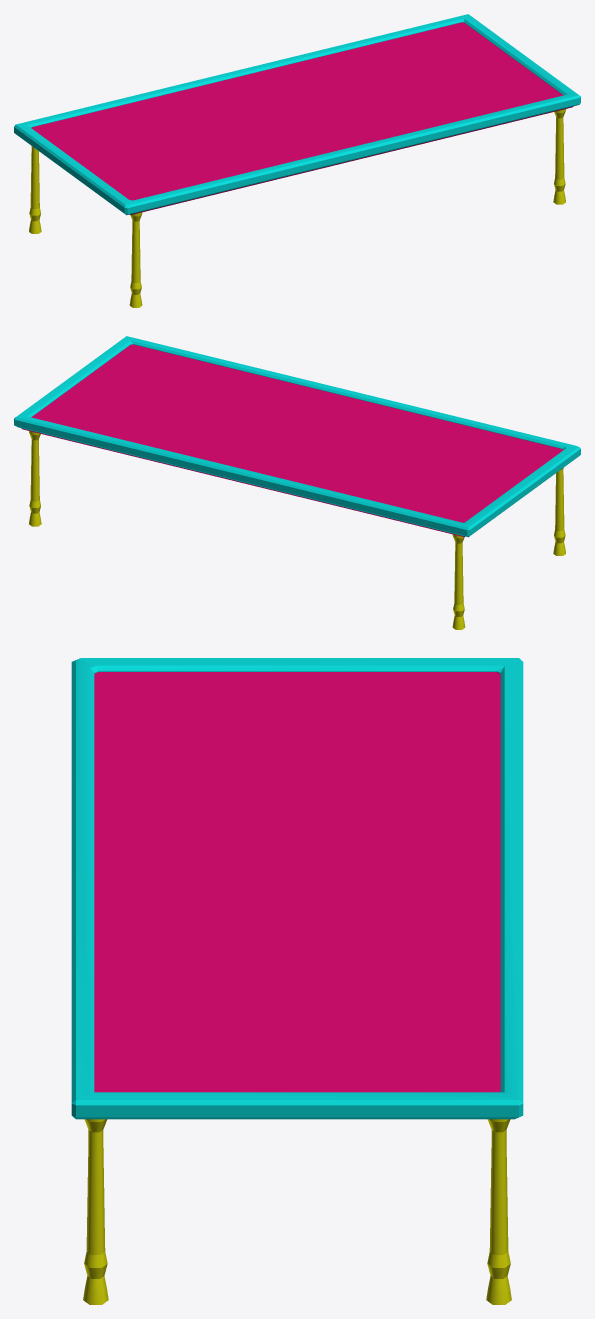
The model's file is tableA.fbx.
3 renders of one model, top to bottom at view 1: azimuth 30°, elevation 25°; view 2: azimuth 150°, elevation 25°; view 3: azimuth 270°, elevation 25°, orthographic. The views are drawn at different scales.
Visible parts, largest first — view 1: autouv1; view 2: autouv1; view 3: autouv1.
Part boxes in pixels (bbox=[...]): autouv1: bbox=[14, 14, 580, 307]; autouv1: bbox=[14, 336, 580, 629]; autouv1: bbox=[71, 658, 523, 1304].
Bounding box in the file's own units: 490 × 110 × 210.
